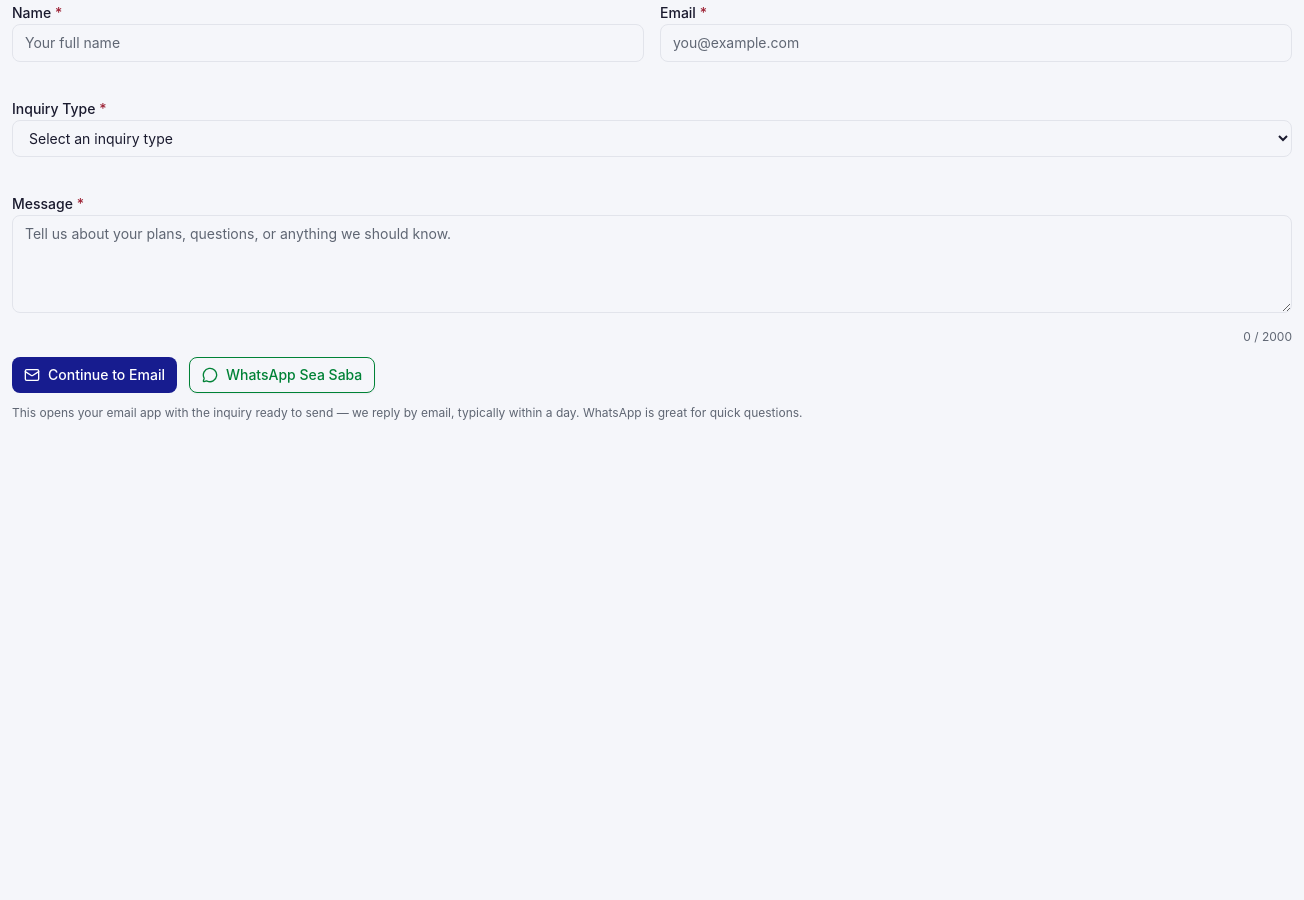
Scenario: progressive inquiry fields › reveals the full diving field set for a certified-diving inquiry
The image size is (1304, 900).
Select "Book Diving" in the dropdown at (652, 138), box [12,120,1292,157]
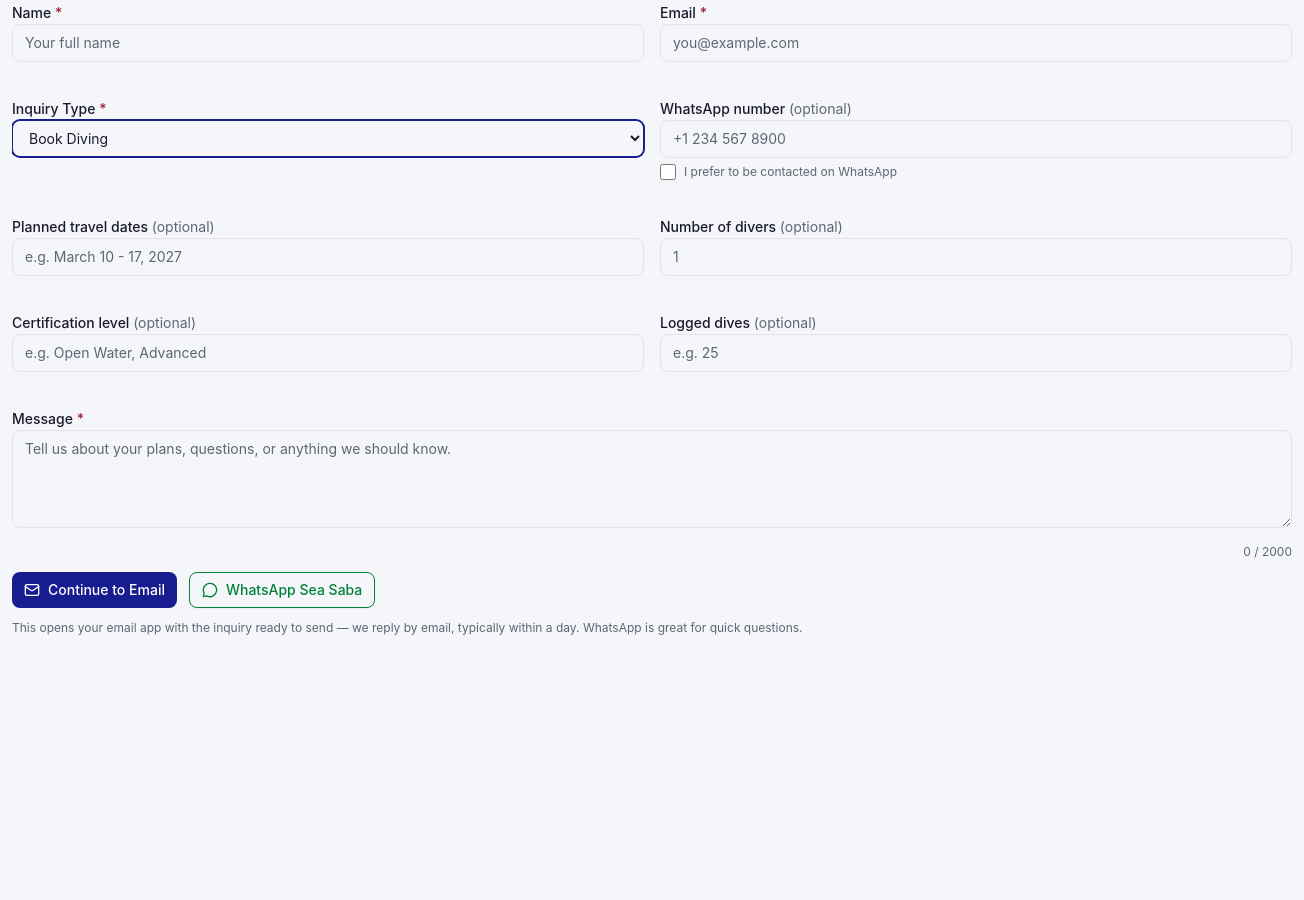
Check: the field labelled "WhatsApp number (optional)" is shown, box [660,120,1292,158]
Check: the field labelled "Planned travel dates (optional)" is shown, box [12,238,644,276]
Check: the field labelled "Number of divers (optional)" is shown, box [660,238,1292,276]
